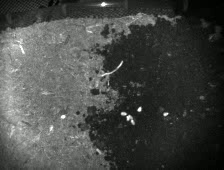corn: (46, 122, 55, 132), (118, 109, 129, 116), (126, 112, 135, 120), (135, 105, 143, 113), (58, 112, 67, 119), (124, 113, 131, 121), (129, 118, 136, 126), (161, 110, 169, 116)
